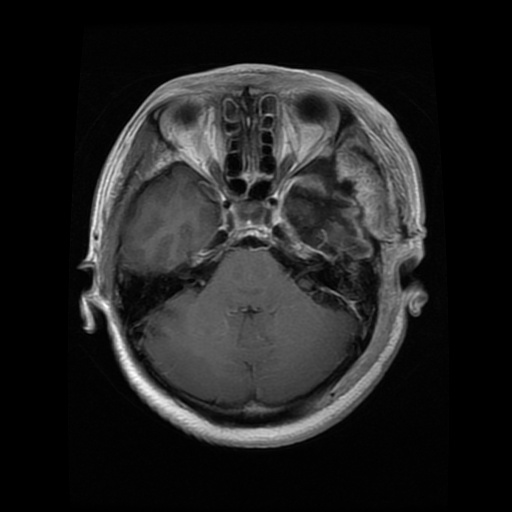glioma: (288, 159, 375, 259)
